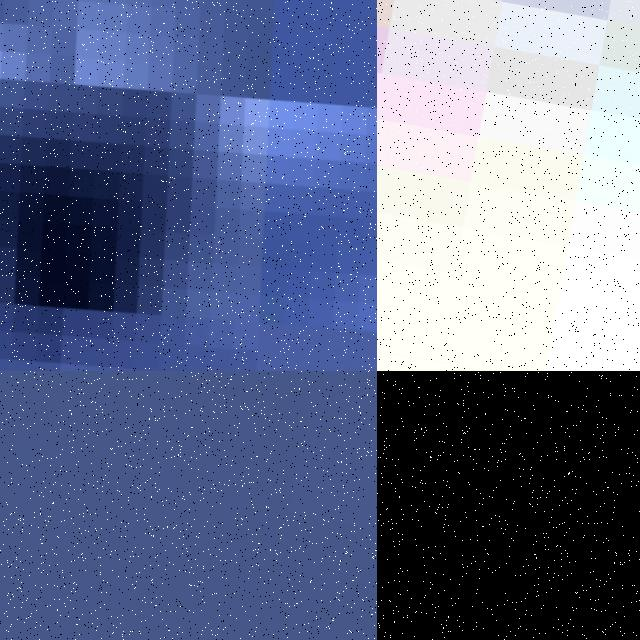drone: (0, 0, 377, 371)
